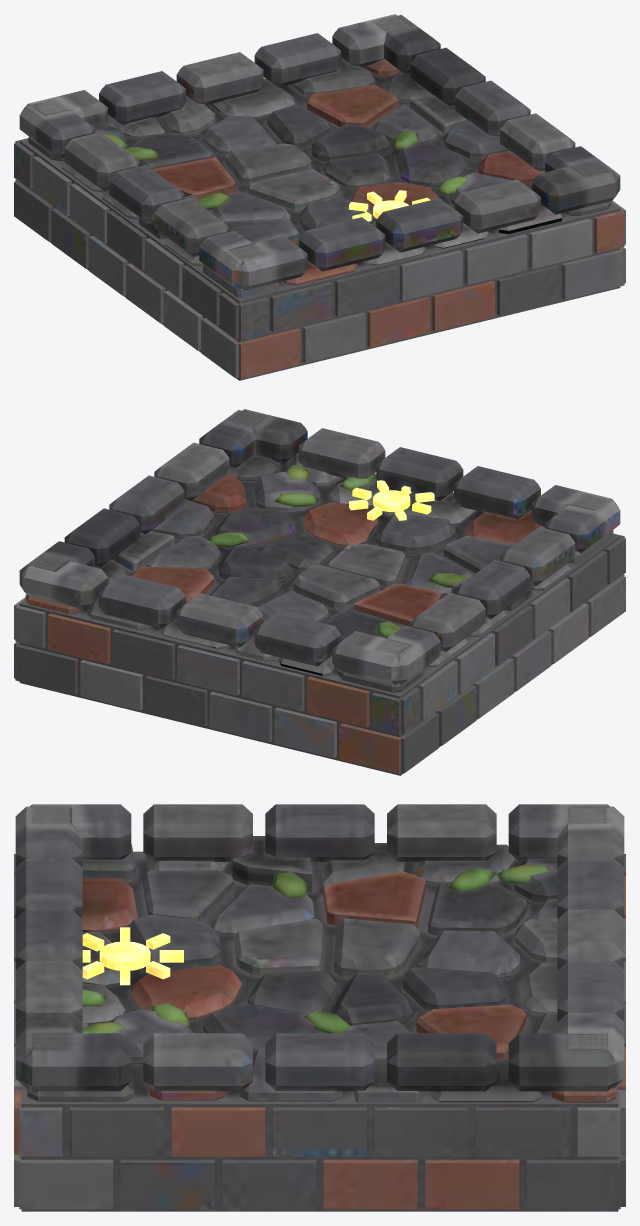
The model's file is plate_2_svarog.glb.
3 renders of one model, top to bottom at view 1: azimuth 30°, elevation 25°; view 2: azimuth 150°, elevation 25°; view 3: azimuth 270°, elevation 25°, orthographic. The views are drawn at different scales.
Parts seen in each view (by area): view 1: plate_2_svarog; view 2: plate_2_svarog; view 3: plate_2_svarog.
Part boxes in pixels (<box>): plate_2_svarog: <box>14,14,625,380</box>; plate_2_svarog: <box>14,409,625,775</box>; plate_2_svarog: <box>14,804,625,1211</box>.
Size of the model in its own units: 2.01 by 0.57 by 2.01.
Materials: 1 (1 with a texture image).
